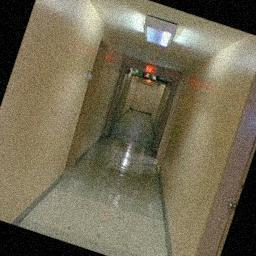Puerta: (189, 53, 256, 256), (54, 37, 118, 177), (132, 81, 153, 113)
